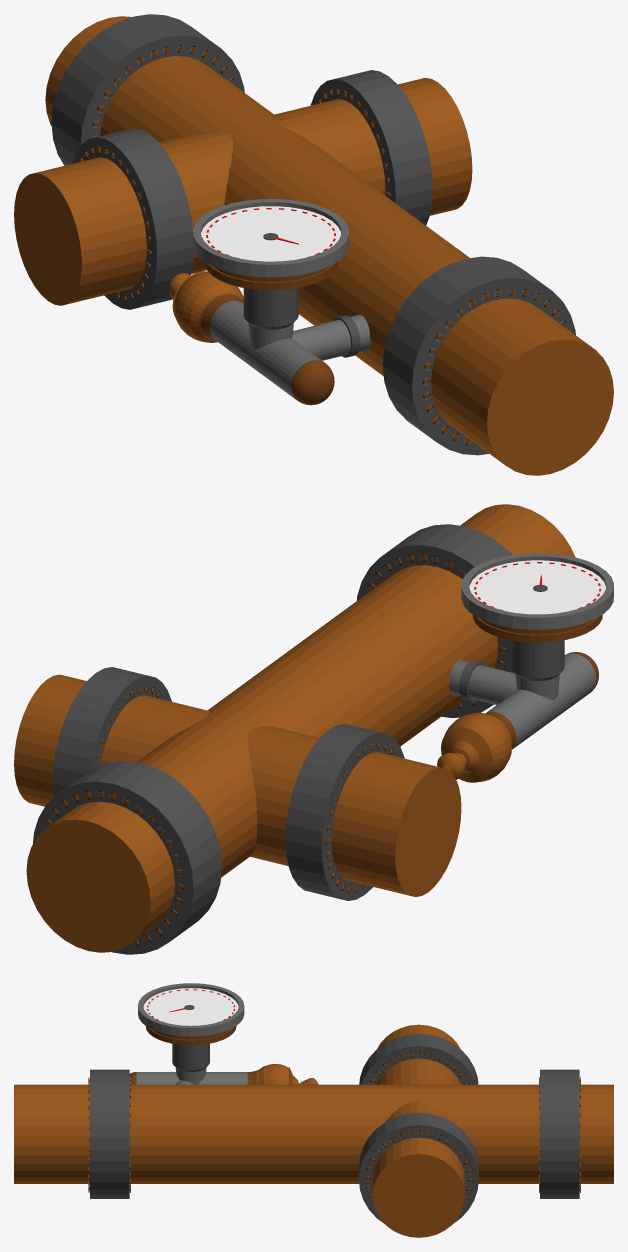
The model's file is ObjectsForThereWFR(PipeMeter).fbx.
3 renders of one model, top to bottom at view 1: azimuth 30°, elevation 25°; view 2: azimuth 150°, elevation 25°; view 3: azimuth 270°, elevation 25°, orthographic. The views are drawn at different scales.
Visible parts, largest first — view 1: FinalCopyRed; view 2: FinalCopyRed; view 3: FinalCopyRed.
Boxes of the visible parts, box(x1,y1,x2,y2) form: FinalCopyRed: box(14, 14, 613, 475); FinalCopyRed: box(14, 504, 613, 954); FinalCopyRed: box(14, 983, 613, 1237).
Size of the model in its own units: 634 by 306 by 1204.
